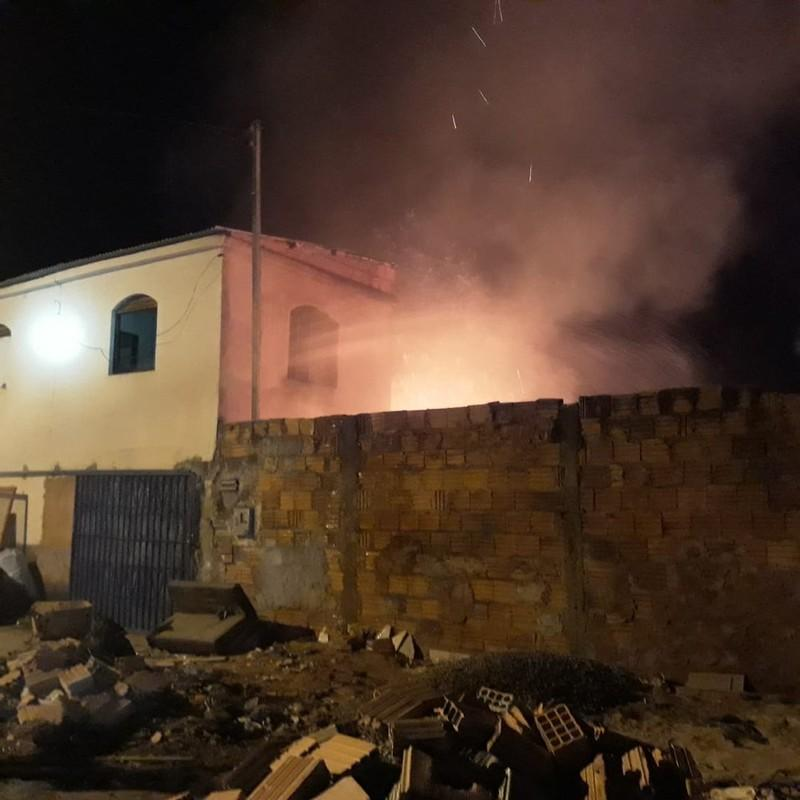smoke: (431, 59, 701, 286)
